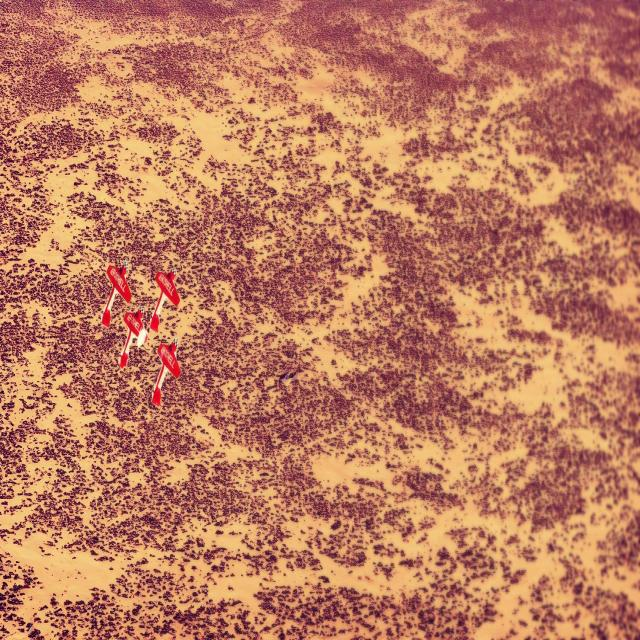airplane: (101, 259, 132, 329), (151, 337, 180, 408), (150, 268, 179, 332), (119, 308, 148, 369)
